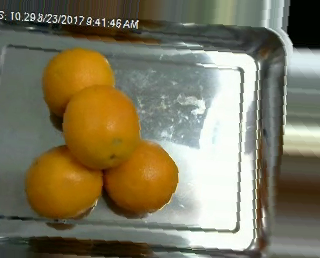Orange: (62, 85, 139, 169), (26, 144, 103, 218), (40, 47, 115, 122), (104, 138, 179, 213)
